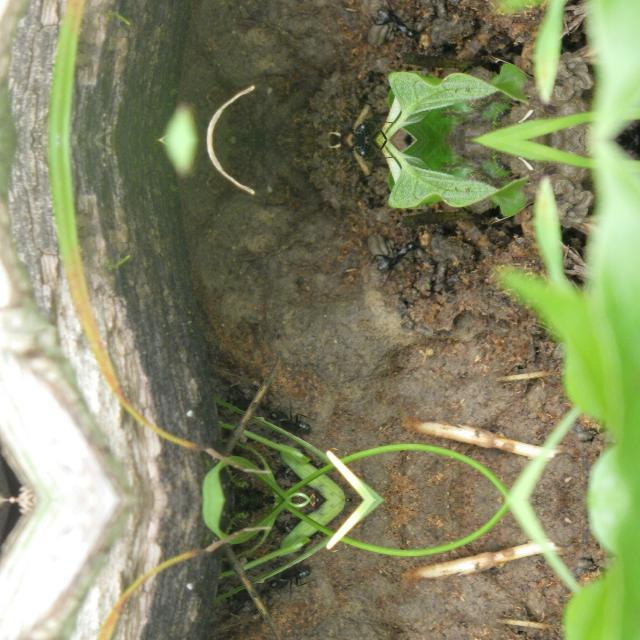Camponotus: (358, 1, 428, 44), (358, 236, 428, 278), (260, 405, 322, 437), (260, 563, 322, 595), (324, 140, 396, 164), (324, 116, 396, 140)
